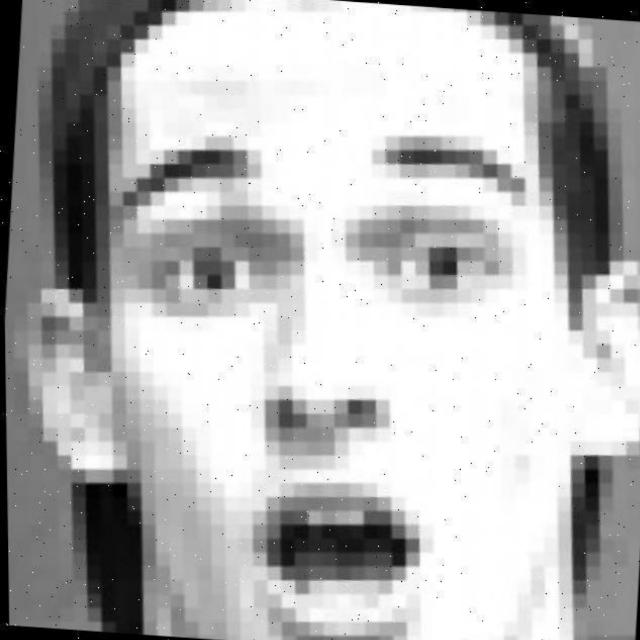Surprised: (17, 69, 640, 640)
